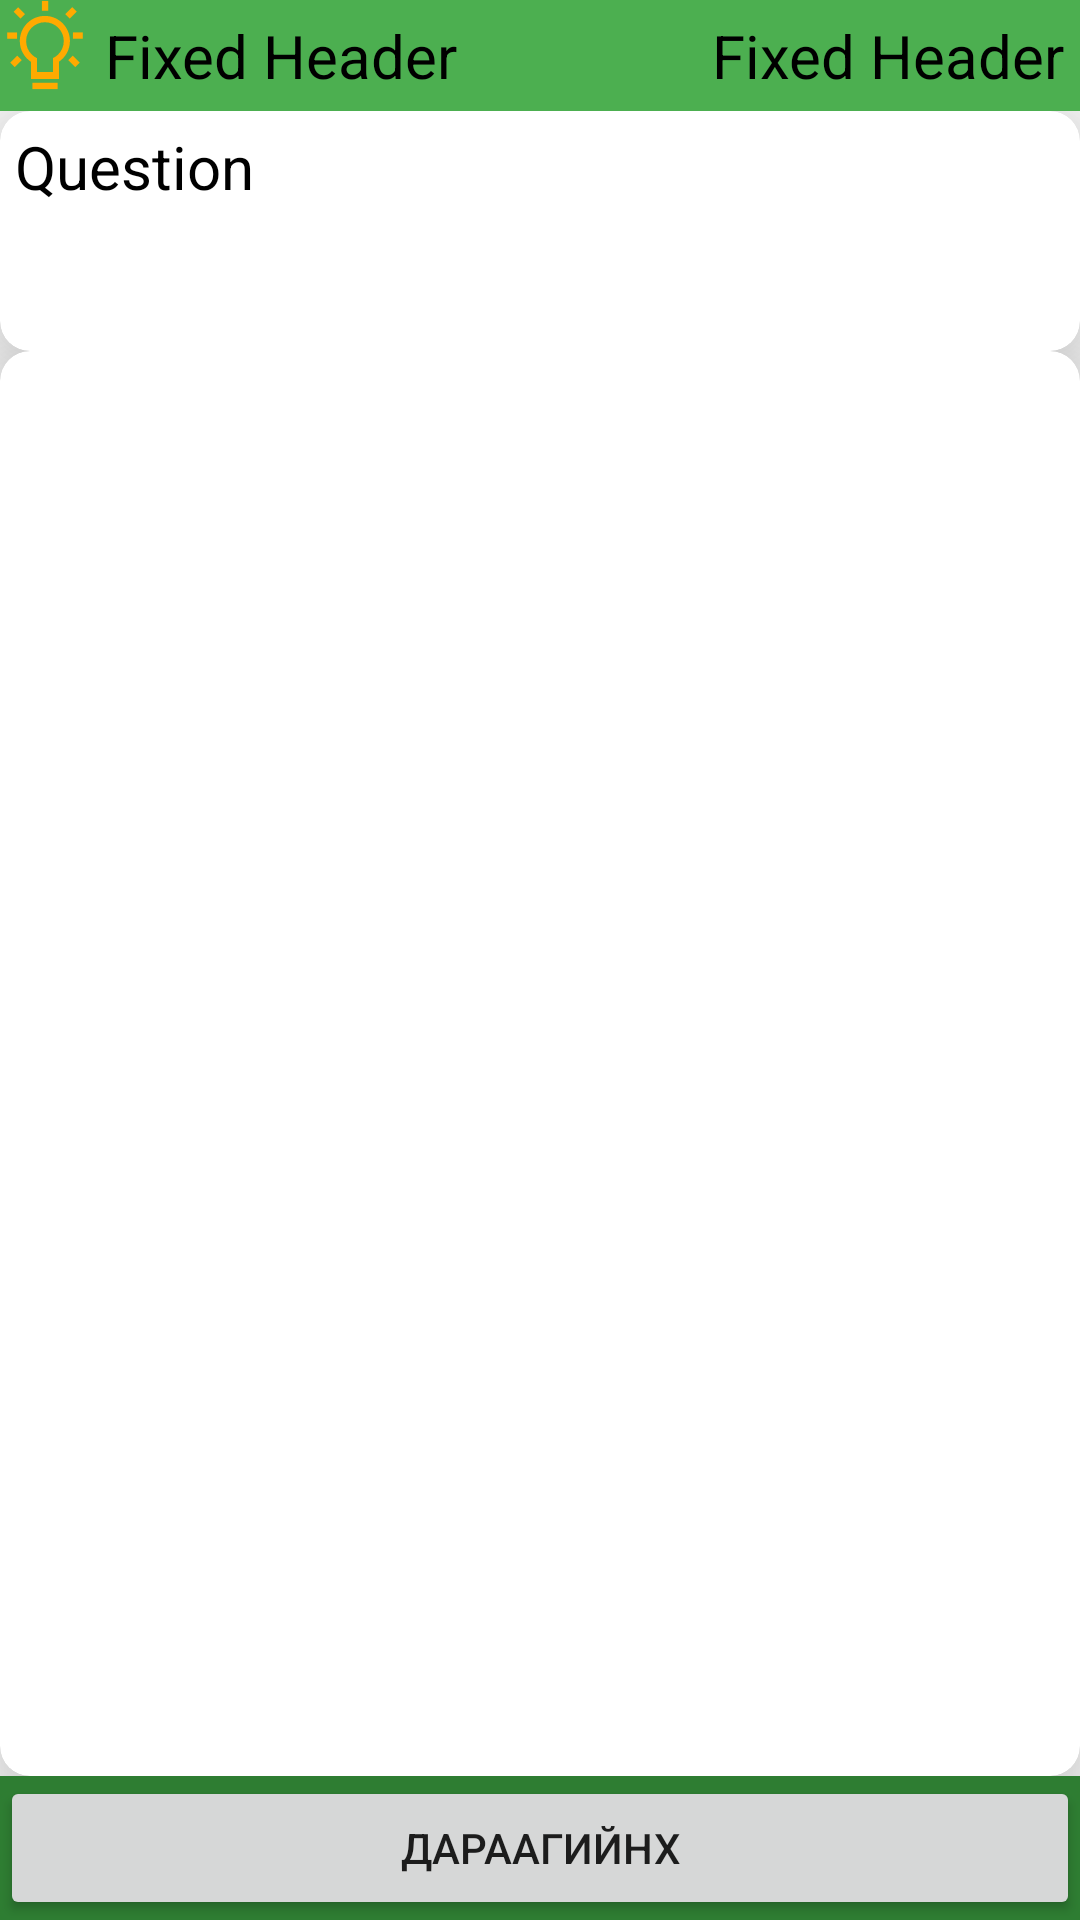

Where icons sit on this 1080x1920 app screen, as (x1, y1, x2, y2):
hint: (7, 1, 83, 89)
